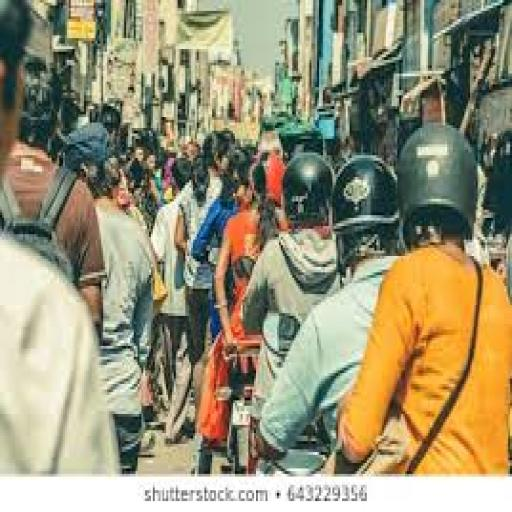helmet: (394, 120, 480, 242)
